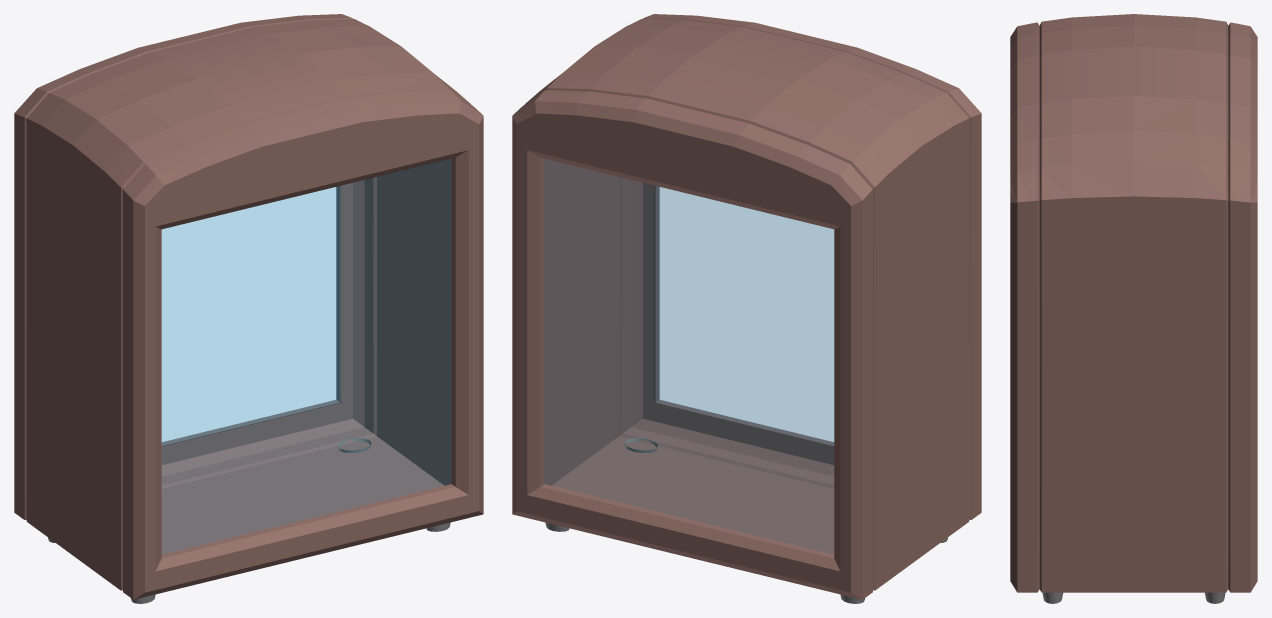
Rendered from SM_box_rounded_02.fbx.
3 renders of one model, left to right at view 1: azimuth 30°, elevation 25°; view 2: azimuth 150°, elevation 25°; view 3: azimuth 270°, elevation 25°, orthographic. The views are drawn at different scales.
Parts seen in each view (by area): view 1: box_rounded_02; view 2: box_rounded_02; view 3: box_rounded_02.
Boxes of the visible parts, <box> form: box_rounded_02: <box>14,14,483,603</box>; box_rounded_02: <box>512,14,981,603</box>; box_rounded_02: <box>1010,14,1257,603</box>.
Bounding box in the file's own units: 26.05 × 33.2 × 16.27.
